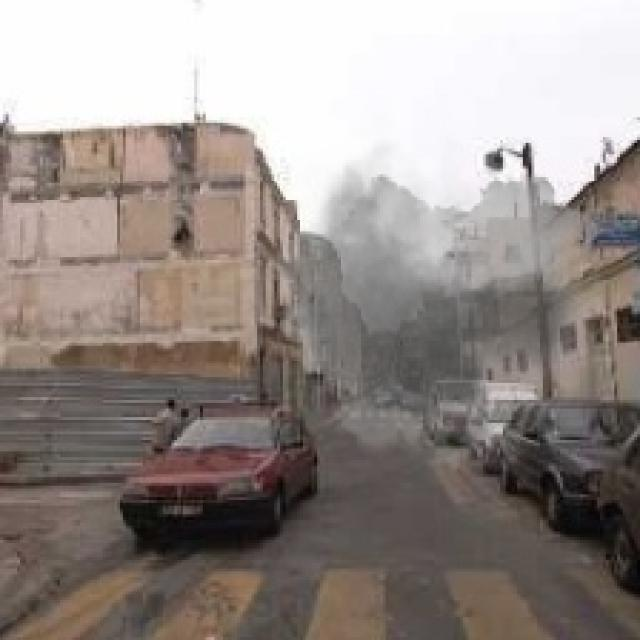Smoke: (257, 94, 609, 492)
